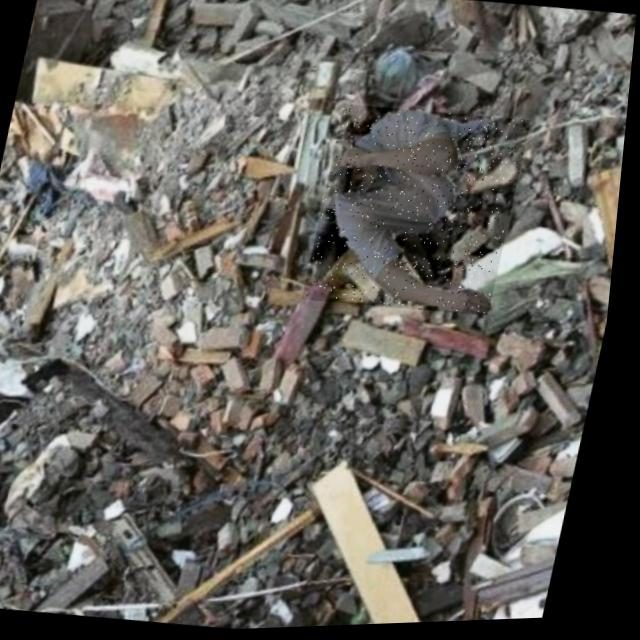Person in Rubble: (306, 100, 535, 324)
